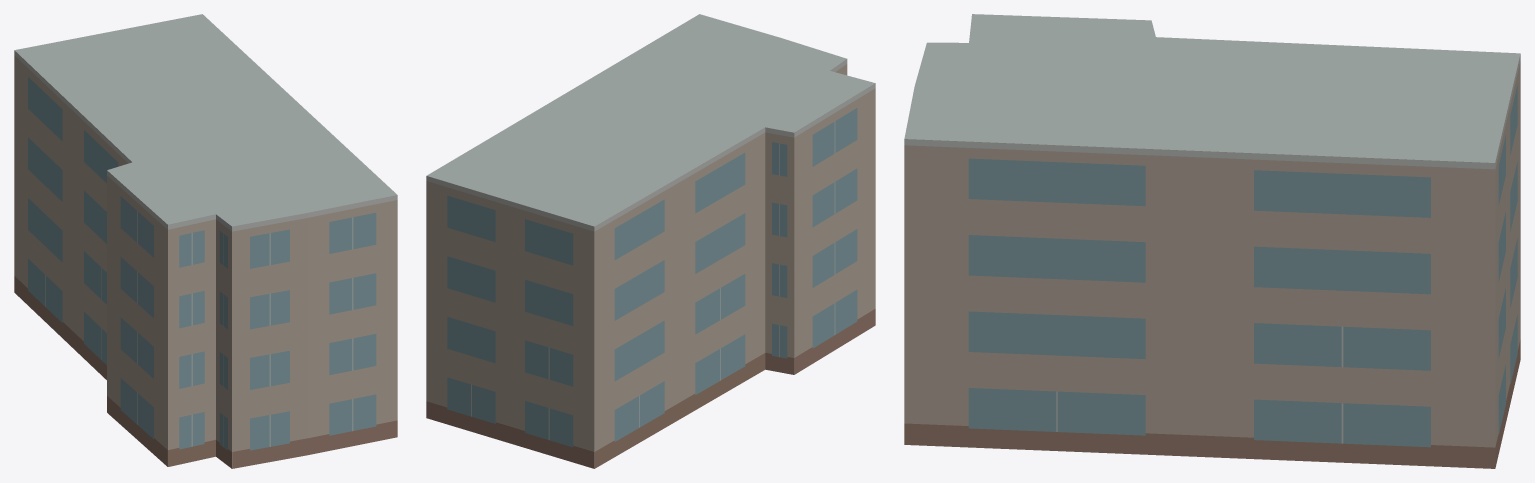
The model's file is survey-upis-32777461.glb.
3 renders of one model, left to right at view 1: azimuth 30°, elevation 25°; view 2: azimuth 150°, elevation 25°; view 3: azimuth 270°, elevation 25°, orthographic. The views are drawn at different scales.
Visible parts, largest first — view 1: survey-upis-32777461.tmp; view 2: survey-upis-32777461.tmp; view 3: survey-upis-32777461.tmp.
Boxes of the visible parts, x1,y1,x2,y2 form: survey-upis-32777461.tmp: (14, 14, 397, 468); survey-upis-32777461.tmp: (426, 14, 875, 468); survey-upis-32777461.tmp: (904, 14, 1520, 468).
Size of the model in its own units: 12.34 by 11.8 by 21.56.
